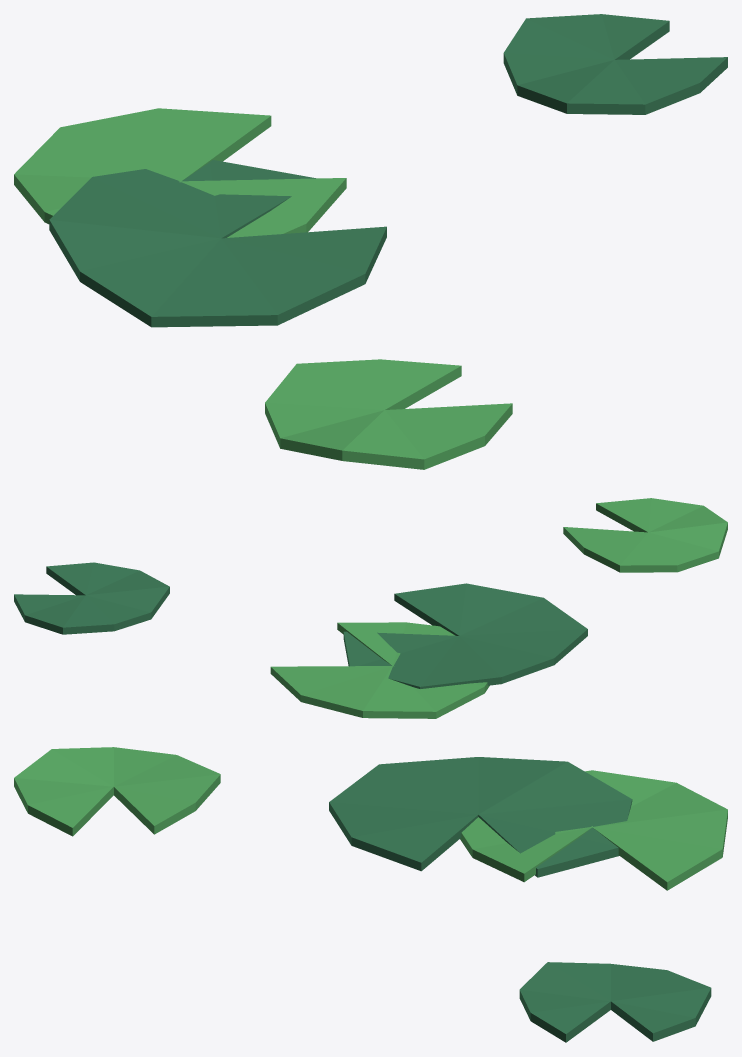
Rendered from lily_pad_b.glb.
The picture shows the model from 3 angles, top to bottom: view 1: azimuth 30°, elevation 25°; view 2: azimuth 150°, elevation 25°; view 3: azimuth 270°, elevation 25°; orthographic projection. The views are drawn at different scales.
Parts seen in each view (by area): view 1: LilyPadB; view 2: LilyPadB; view 3: LilyPadB.
Part boxes in pixels (x1,y1,x2,y2): LilyPadB: [14, 14, 727, 469]; LilyPadB: [14, 498, 727, 718]; LilyPadB: [14, 747, 727, 1042].
Size of the model in its own units: 0.7886 by 0.0271 by 0.8217.
